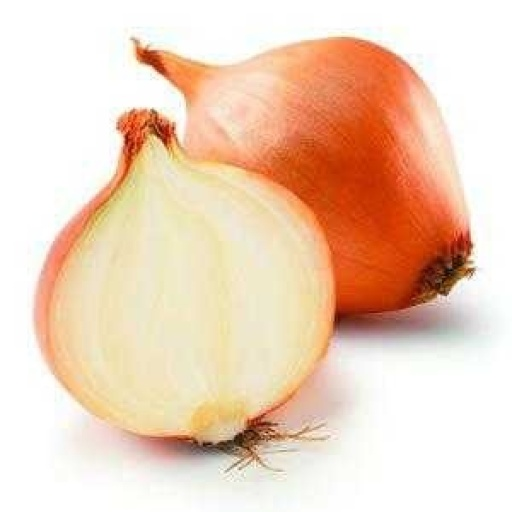Zwiebel: (34, 107, 336, 474), (129, 36, 480, 315)
